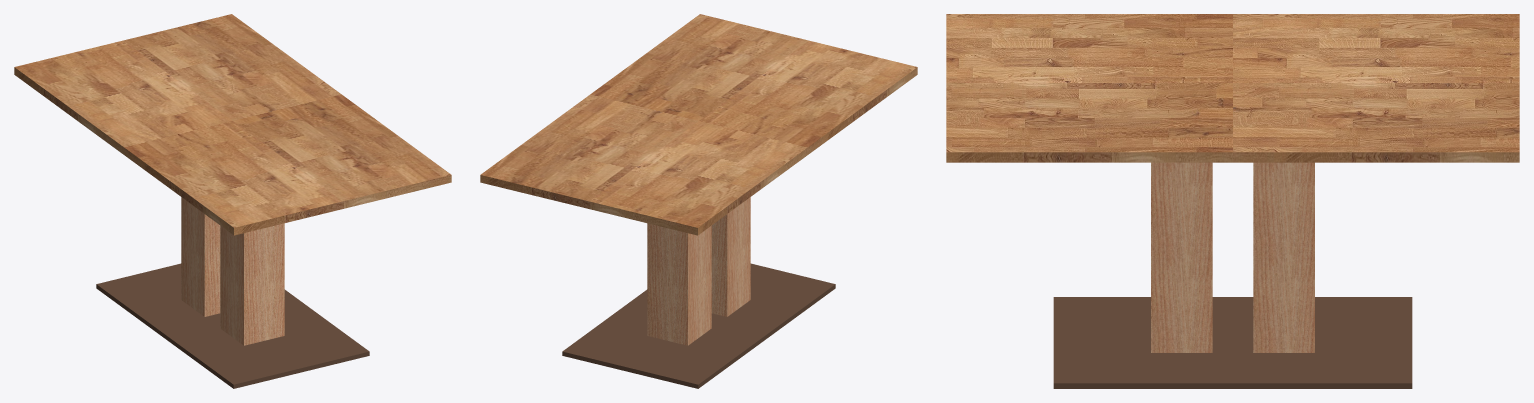
The model's file is dining_table.obj.
The picture shows the model from 3 angles, left to right: view 1: azimuth 30°, elevation 25°; view 2: azimuth 150°, elevation 25°; view 3: azimuth 270°, elevation 25°; orthographic projection. The views are drawn at different scales.
Visible parts, largest first — view 1: Solid1:1, Solid1:4, Solid1, Solid1:2; view 2: Solid1:1, Solid1:4, Solid1:2, Solid1; view 3: Solid1:1, Solid1:4, Solid1, Solid1:2.
Part boxes in pixels (bbox=[...]): Solid1:1: bbox=[14, 14, 451, 235]; Solid1:4: bbox=[96, 263, 369, 388]; Solid1: bbox=[220, 223, 284, 345]; Solid1:2: bbox=[181, 197, 220, 316]; Solid1:1: bbox=[480, 14, 917, 235]; Solid1:4: bbox=[562, 263, 835, 388]; Solid1:2: bbox=[647, 223, 711, 345]; Solid1: bbox=[711, 197, 750, 316]; Solid1:1: bbox=[946, 14, 1519, 162]; Solid1:4: bbox=[1053, 297, 1412, 388]; Solid1: bbox=[1151, 162, 1212, 352]; Solid1:2: bbox=[1253, 162, 1314, 352].
Size of the model in its own units: 800 by 707 by 1400.
4 materials, 3 textured.
